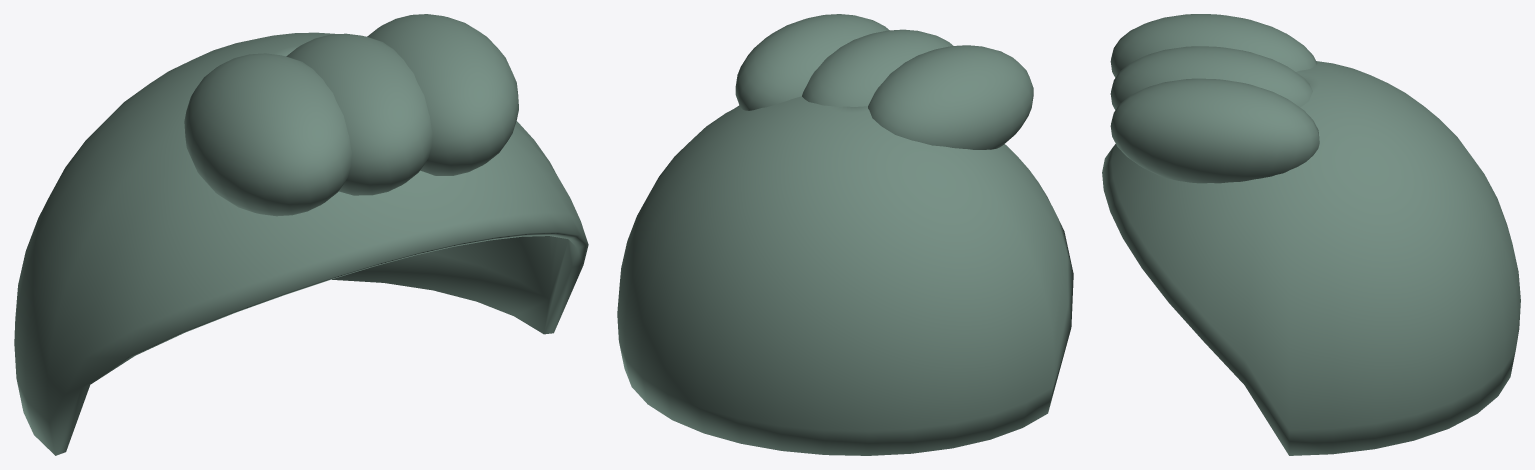
Rendered from spiky.glb.
3 renders of one model, left to right at view 1: azimuth 30°, elevation 25°; view 2: azimuth 150°, elevation 25°; view 3: azimuth 270°, elevation 25°, orthographic. The views are drawn at different scales.
Visible parts, largest first — view 1: sculptedHair, sweptLock0, sweptLock2, sweptLock1; view 2: sculptedHair, sweptLock0, sweptLock2, sweptLock1; view 3: sculptedHair, sweptLock2, sweptLock0, sweptLock1.
Boxes of the visible parts, <box> form: sculptedHair: <box>14,32,588,455</box>; sweptLock0: <box>184,53,351,216</box>; sweptLock2: <box>367,14,518,175</box>; sweptLock1: <box>286,33,432,195</box>; sculptedHair: <box>617,96,1073,455</box>; sweptLock0: <box>868,45,1033,149</box>; sweptLock2: <box>735,14,889,110</box>; sweptLock1: <box>802,29,953,106</box>; sculptedHair: <box>1102,61,1520,455</box>; sweptLock2: <box>1110,78,1319,183</box>; sweptLock0: <box>1110,14,1317,77</box>; sweptLock1: <box>1110,46,1312,109</box>.
Bounding box in the file's own units: 0.7805 × 0.5401 × 0.6701.
